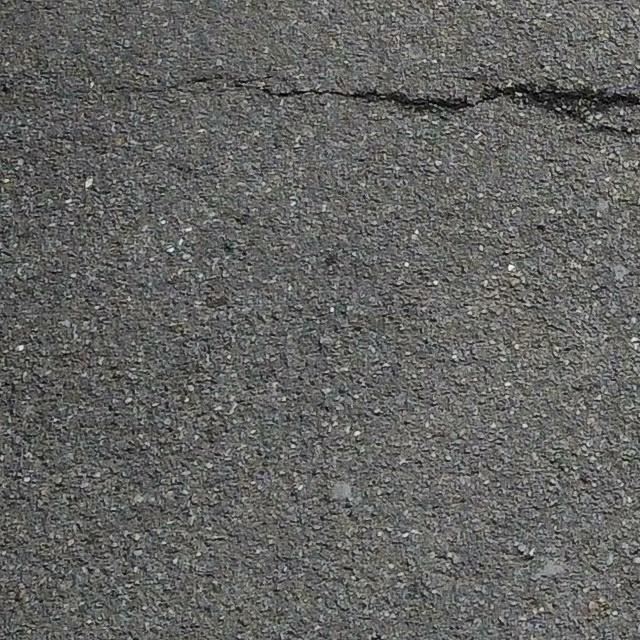TransverseCrack: (264, 84, 640, 136)
